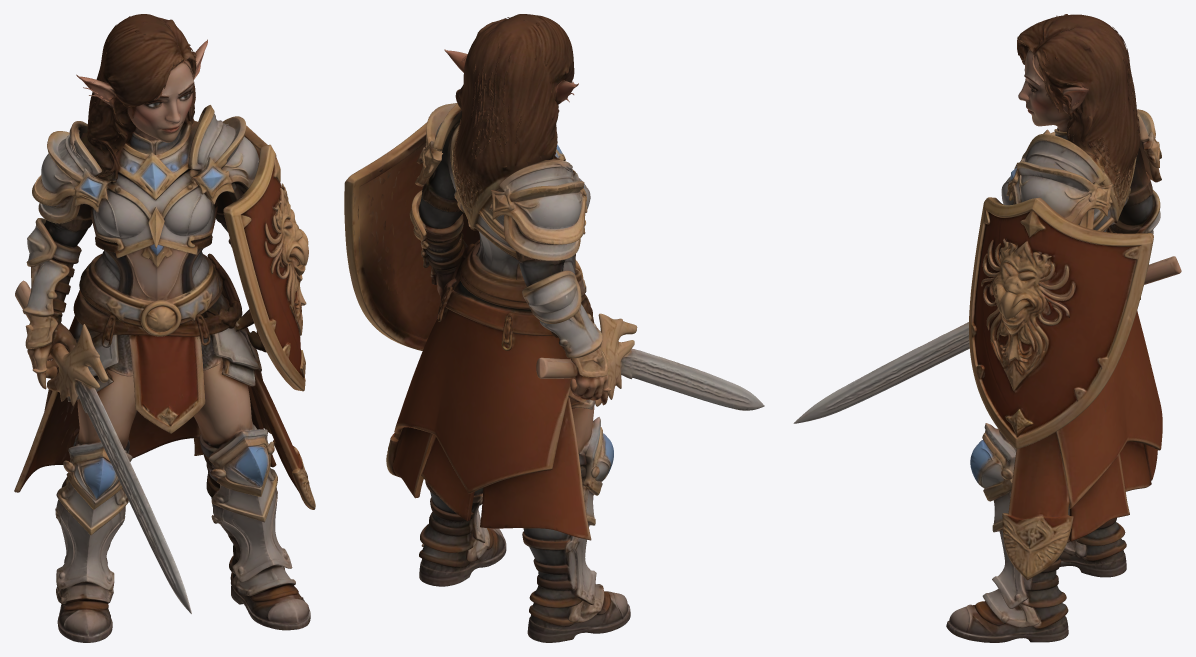
Rendered from halfling_warrior_full_female_01.glb.
The picture shows the model from 3 angles, left to right: view 1: azimuth 30°, elevation 25°; view 2: azimuth 150°, elevation 25°; view 3: azimuth 270°, elevation 25°; orthographic projection. The views are drawn at different scales.
Parts seen in each view (by area): view 1: material; view 2: material; view 3: material.
Part boxes in pixels (x1,y1,x2,y2): material: [14, 14, 315, 642]; material: [344, 14, 764, 642]; material: [793, 14, 1181, 642].
Size of the model in its own units: 0.4732 by 1.07 by 0.6566.
Materials: 1 (1 with a texture image).
